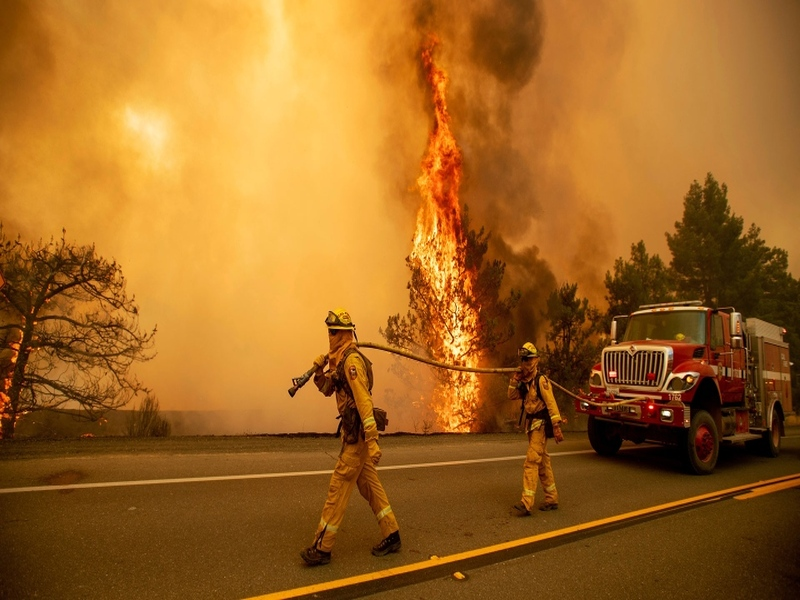fire: (424, 81, 477, 437)
